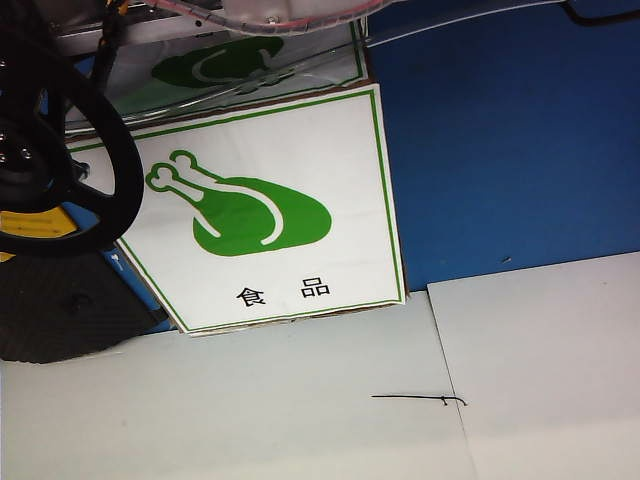Cube_food: (140, 139, 341, 317)
